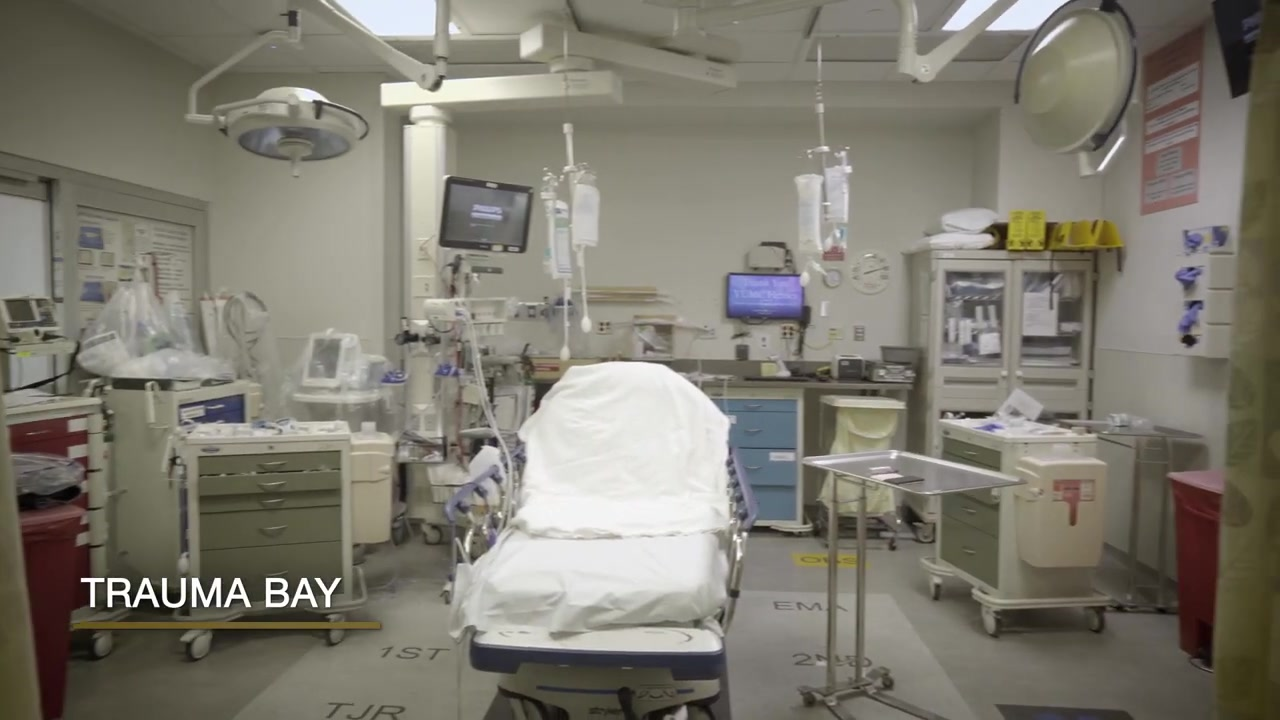bedrail: (709, 433, 757, 649), (441, 456, 513, 566)
bedside_monitor: (442, 172, 532, 254), (307, 336, 357, 390)
cabinet: (908, 246, 1099, 540)
computer: (725, 275, 809, 324)
dispenser: (1173, 224, 1234, 361)
handle: (254, 459, 285, 473), (257, 476, 288, 490), (257, 522, 288, 536), (261, 567, 289, 581), (737, 427, 765, 441), (741, 461, 765, 475), (957, 503, 978, 517), (960, 444, 977, 461), (744, 400, 765, 410), (960, 545, 977, 555), (261, 497, 285, 504), (999, 368, 1010, 381), (1015, 369, 1026, 378)
iv_pole: (808, 46, 838, 378), (563, 124, 581, 358)
keyboard: (741, 371, 811, 385)
medical_drawer: (167, 428, 353, 653), (924, 416, 1108, 637), (106, 374, 254, 612), (710, 392, 806, 529)
medical_waste_container: (1011, 451, 1112, 578)
mouse: (814, 371, 831, 381)
operating_bed: (447, 357, 761, 720)
surgical_light: (1012, 1, 1148, 176), (209, 83, 376, 177)
utility_cart: (793, 446, 1030, 720), (1050, 415, 1213, 613)
waste_bin: (814, 392, 908, 538), (1168, 473, 1224, 664)
